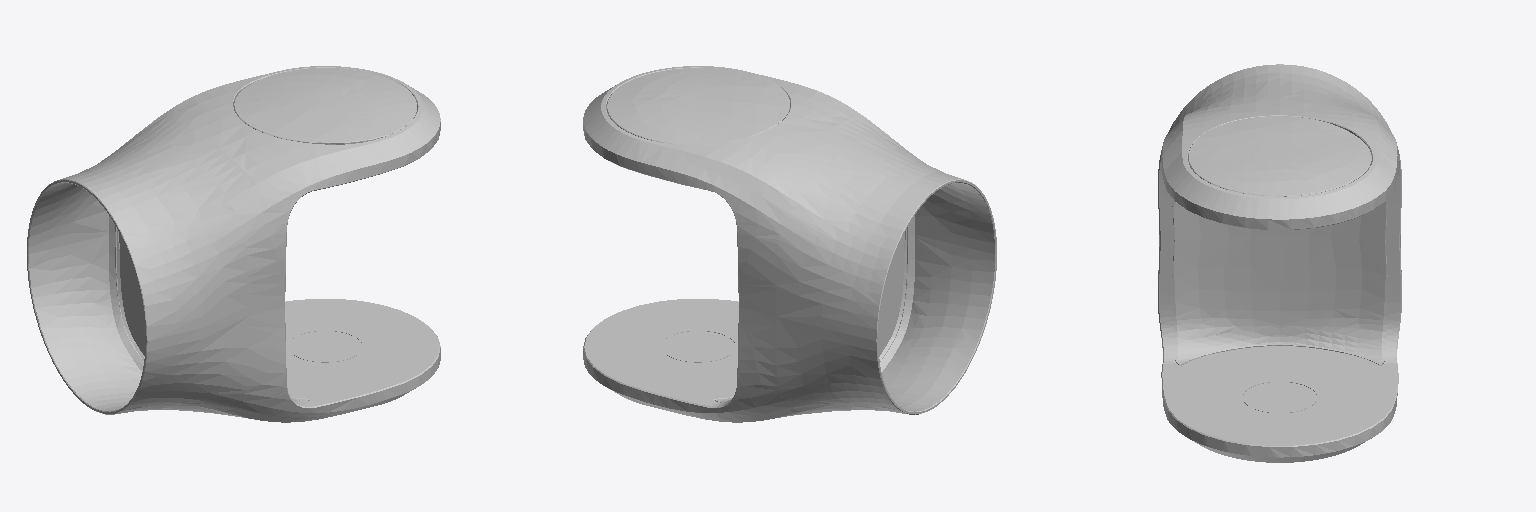
3 views of the same model, side by side, from view 1: azimuth 30°, elevation 25°; view 2: azimuth 150°, elevation 25°; view 3: azimuth 270°, elevation 25° (orthographic).
Parts seen in each view (by area): view 1: left_elbow_roll_link; view 2: left_elbow_roll_link; view 3: left_elbow_roll_link.
Part boxes in pixels (bbox=[...]): left_elbow_roll_link: bbox=[27, 66, 440, 422]; left_elbow_roll_link: bbox=[583, 66, 996, 422]; left_elbow_roll_link: bbox=[1158, 64, 1401, 462].
Size of the model in its own units: 0.1103 by 0.086 by 0.0689.